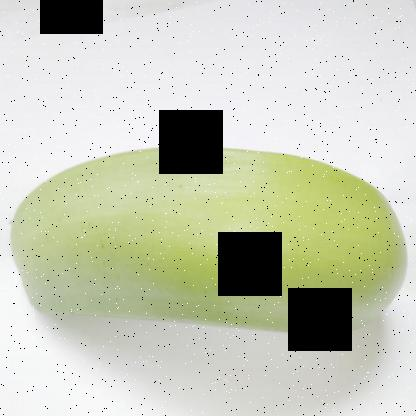freshunripe: (2, 126, 416, 358)
